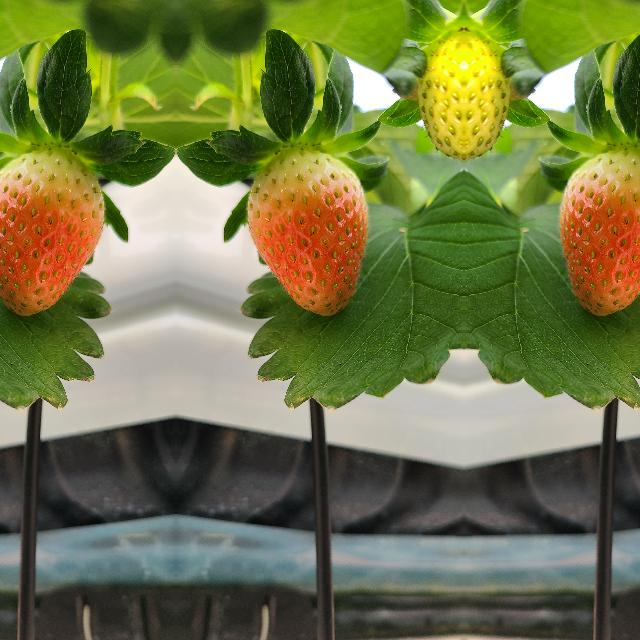Health_25: (408, 36, 462, 162), (464, 36, 518, 162)
Health_75: (244, 150, 370, 316), (0, 150, 105, 316), (556, 150, 640, 316)
